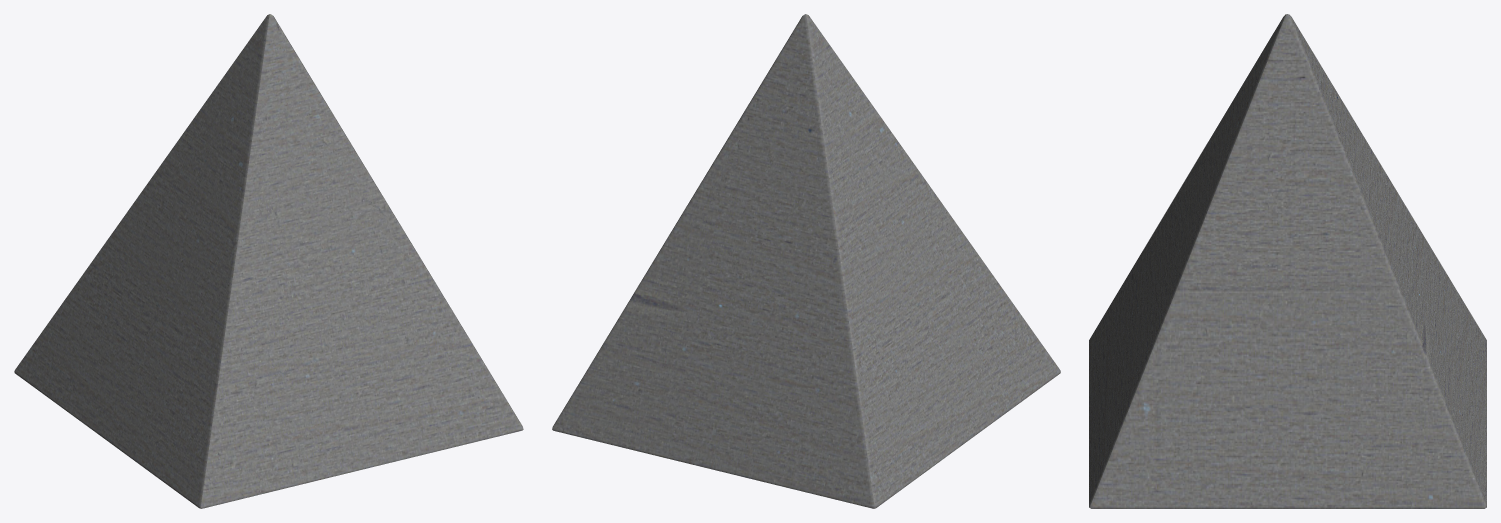
The model's file is Square Based Pyramid UVed OBJ.obj.
3 views of the same model, side by side, from view 1: azimuth 30°, elevation 25°; view 2: azimuth 150°, elevation 25°; view 3: azimuth 270°, elevation 25° (orthographic). The views are drawn at different scales.
Parts seen in each view (by area): view 1: Block7HIGHTRIANGLE_pCube1; view 2: Block7HIGHTRIANGLE_pCube1; view 3: Block7HIGHTRIANGLE_pCube1.
Part boxes in pixels (box(x1,y1,x2,y2)): Block7HIGHTRIANGLE_pCube1: box(14, 14, 523, 508); Block7HIGHTRIANGLE_pCube1: box(552, 14, 1060, 508); Block7HIGHTRIANGLE_pCube1: box(1089, 14, 1486, 508).
Size of the model in its own units: 96.88 by 111 by 96.88.
Materials: 1 (1 with a texture image).
